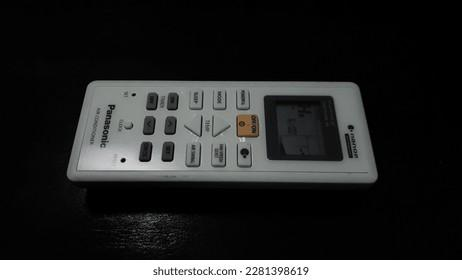Remote control: (66, 81, 377, 184)
